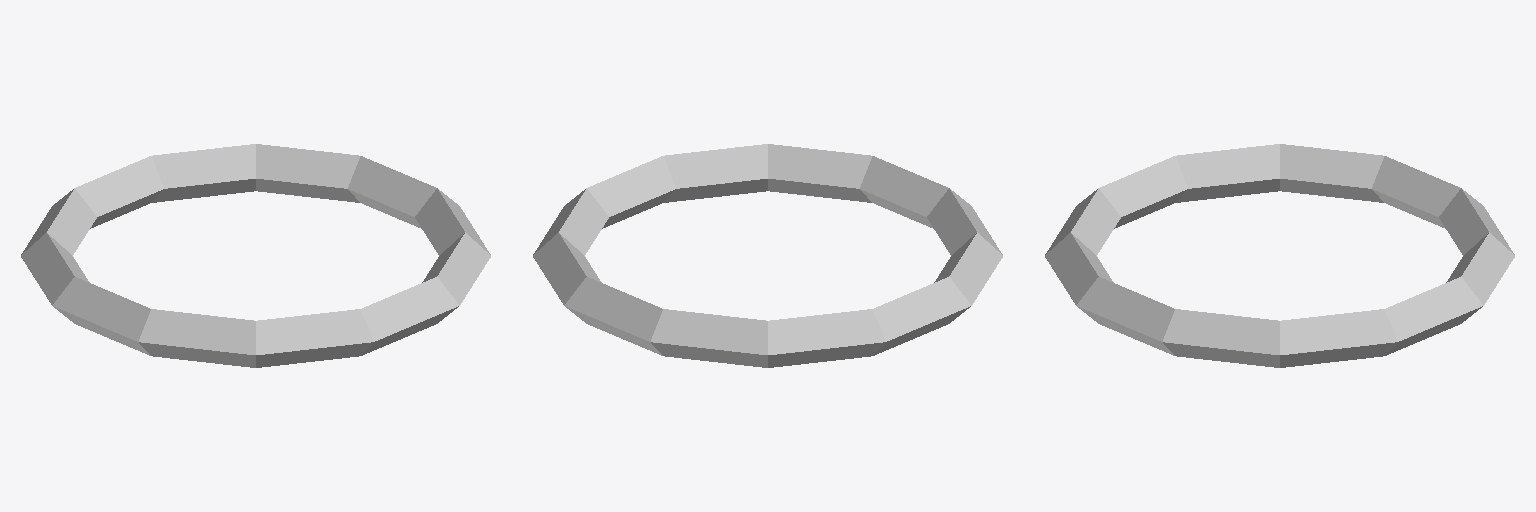
The model's file is Ring.obj.
3 renders of one model, left to right at view 1: azimuth 30°, elevation 25°; view 2: azimuth 150°, elevation 25°; view 3: azimuth 270°, elevation 25°, orthographic.
Visible parts, largest first — view 1: Torus; view 2: Torus; view 3: Torus.
Boxes of the visible parts, box(x1,y1,x2,y2) form: Torus: box(21, 144, 490, 367); Torus: box(533, 144, 1002, 367); Torus: box(1045, 144, 1514, 367).
Bounding box in the file's own units: 2.25 × 0.25 × 2.25.